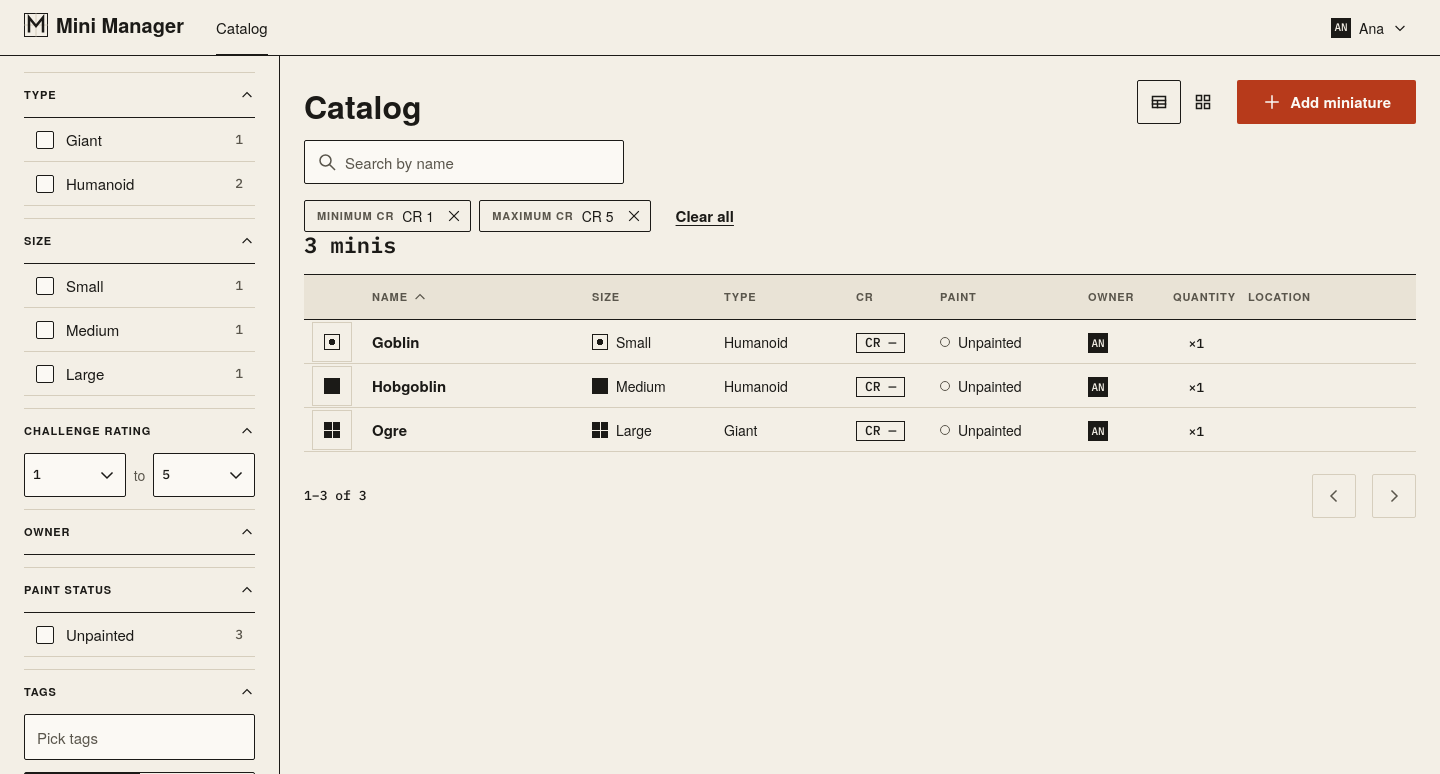
Test case: FilterControls › the Challenge Rating range follows a removed chip, and does not write the removed bound back
Click the button with aria-label "Remove filter Minimum CR" at [388, 216], box [304,200,471,232]
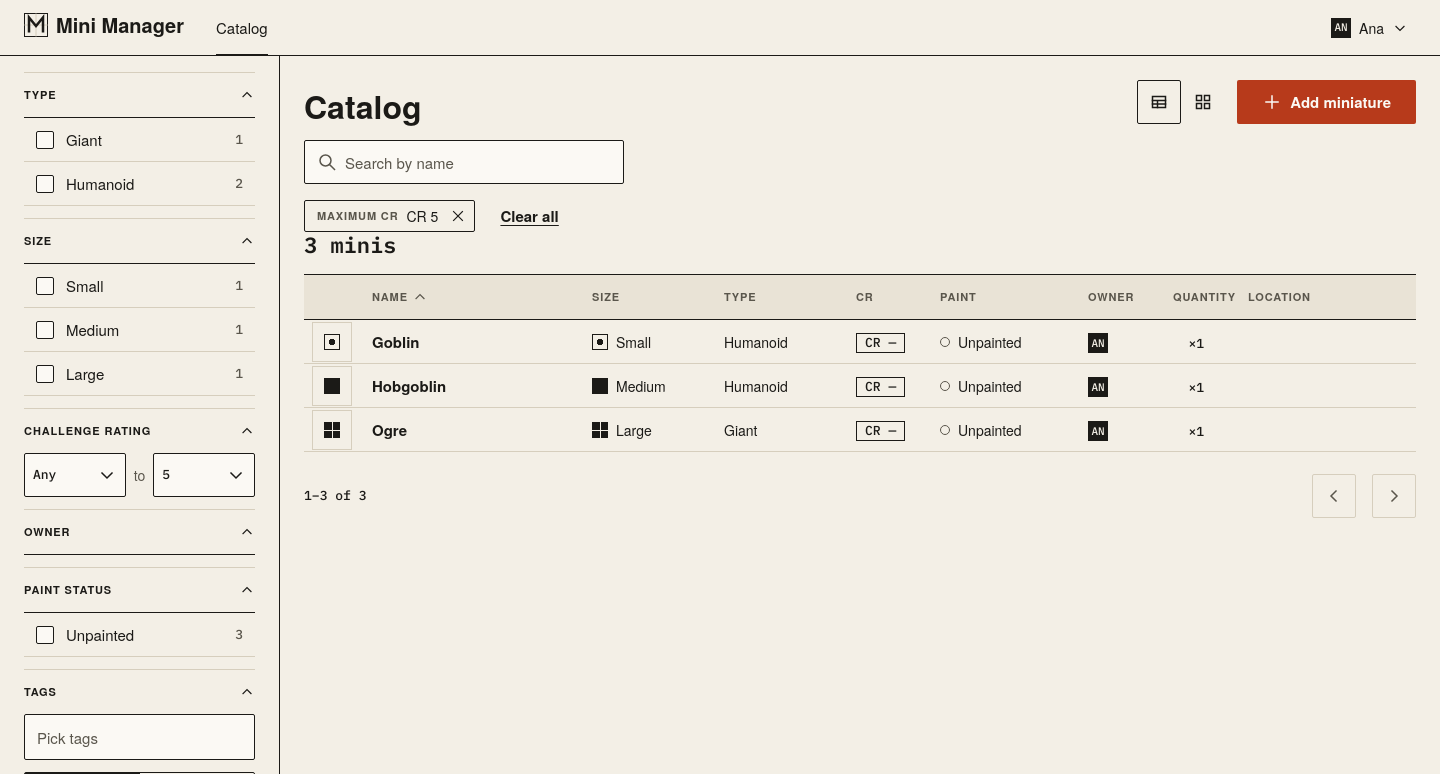
Check: the dropdown named "Minimum CR" shows "Any", box [33,454,117,496]
Select "2" in the dropdown named "Maximum CR" at [204, 475], box [162,454,246,496]
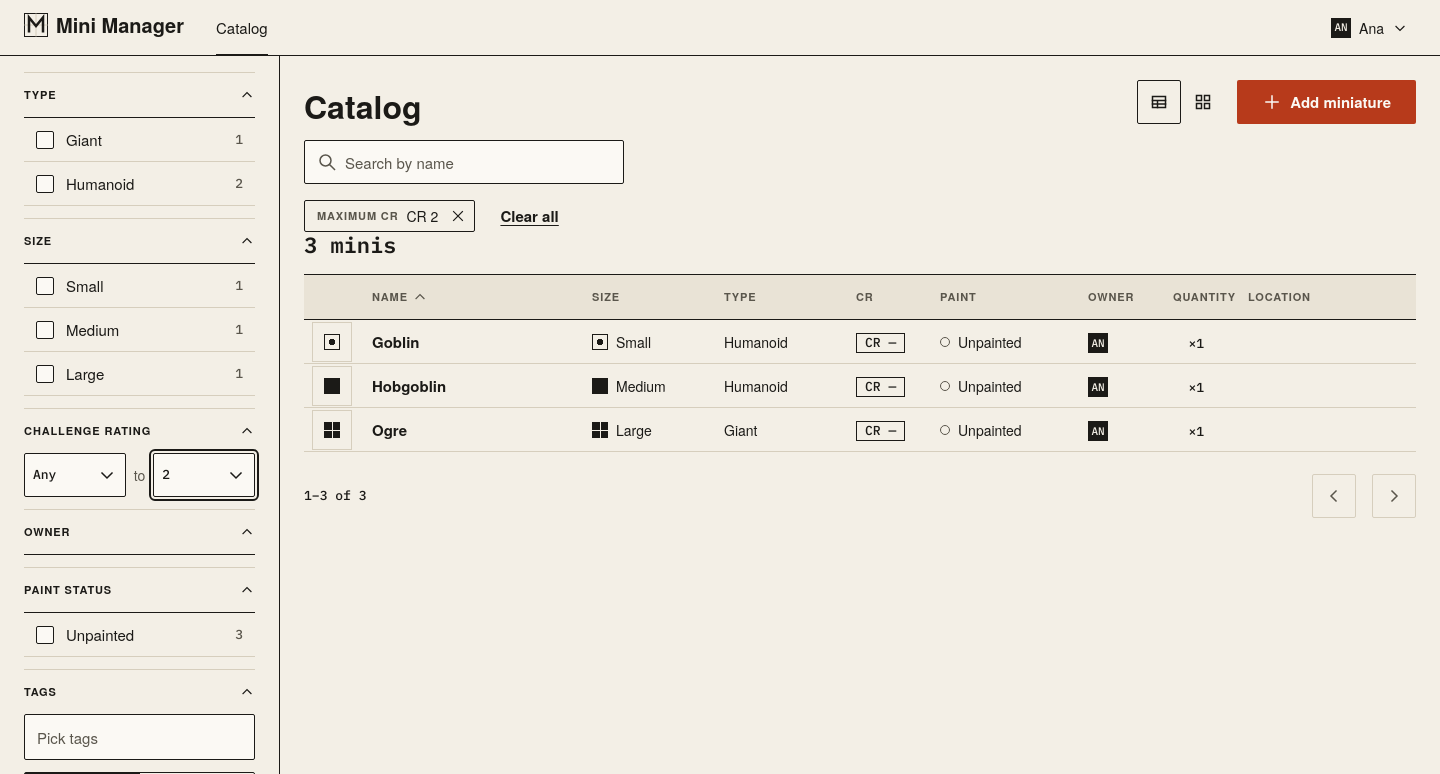
Check: the button with aria-label "Remove filter Maximum CR: CR 2" is shown, box [304,200,475,232]
